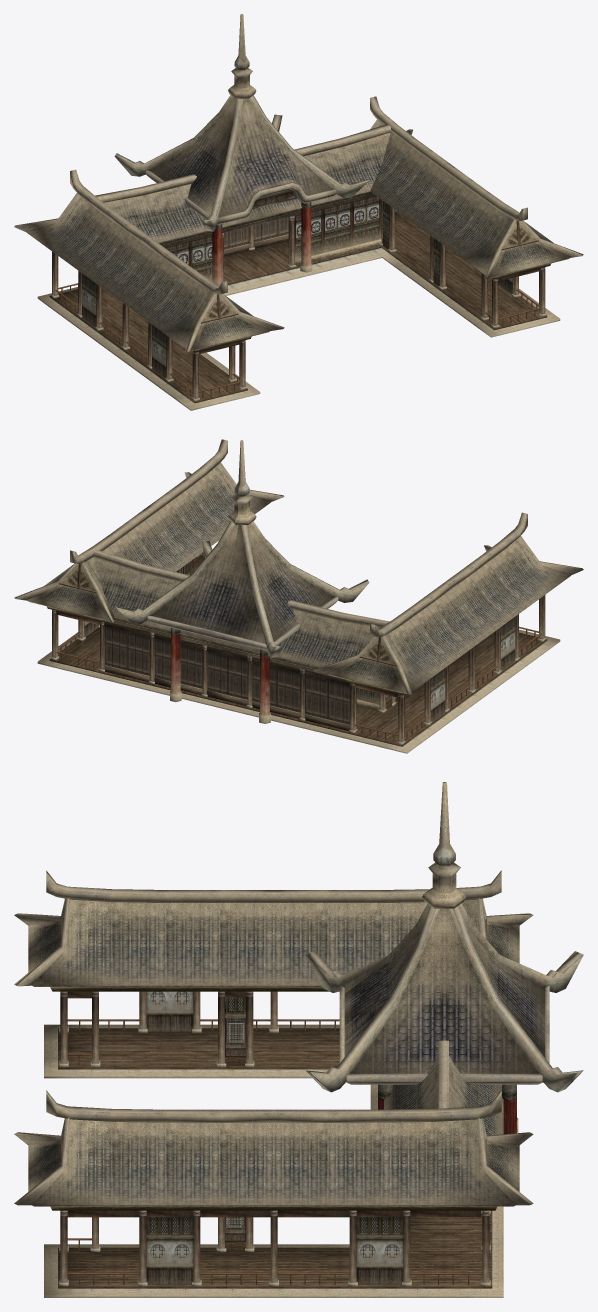
The model's file is desert_building04.fbx.
3 renders of one model, top to bottom at view 1: azimuth 30°, elevation 25°; view 2: azimuth 150°, elevation 25°; view 3: azimuth 270°, elevation 25°, orthographic. The views are drawn at different scales.
Visible parts, largest first — view 1: desert_building04_03, desert_building04_01, desert_building04_02; view 2: desert_building04_03, desert_building04_01, desert_building04_02; view 3: desert_building04_03, desert_building04_02, desert_building04_01.
Boxes of the visible parts, <box> form: desert_building04_03: <box>14,96,583,410</box>; desert_building04_01: <box>51,124,546,401</box>; desert_building04_02: <box>114,14,368,285</box>; desert_building04_03: <box>14,439,583,753</box>; desert_building04_01: <box>51,550,546,744</box>; desert_building04_02: <box>115,440,369,723</box>; desert_building04_03: <box>14,870,533,1297</box>; desert_building04_02: <box>305,782,583,1134</box>; desert_building04_01: <box>59,991,503,1286</box>.
Bounding box in the file's own units: 69.19 × 41.96 × 57.02.
